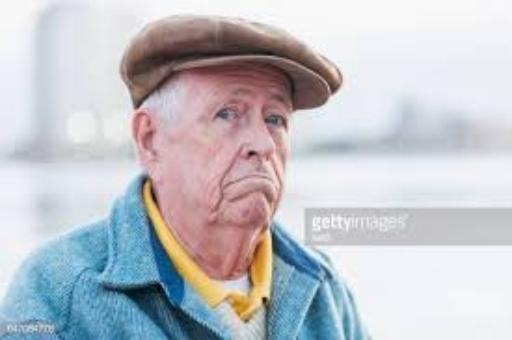left_eye: (265, 110, 288, 126)
right_eye: (216, 107, 239, 122)
right_lip_corner: (224, 180, 232, 191)
